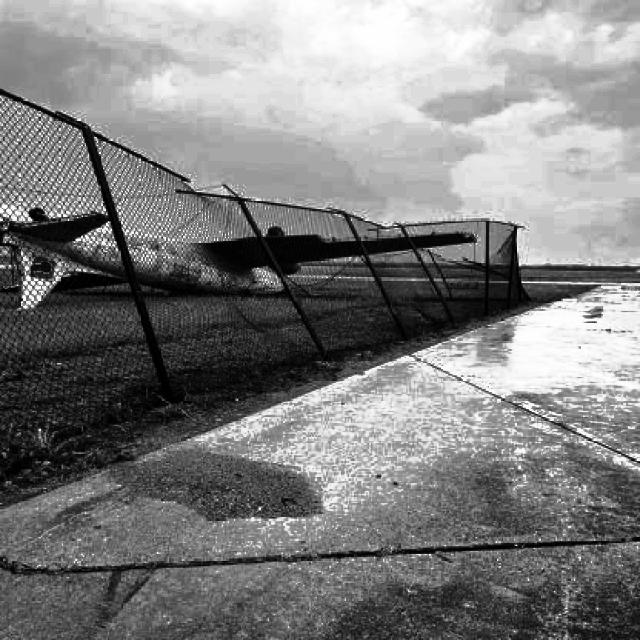anomaly-fence: (0, 78, 535, 412)
